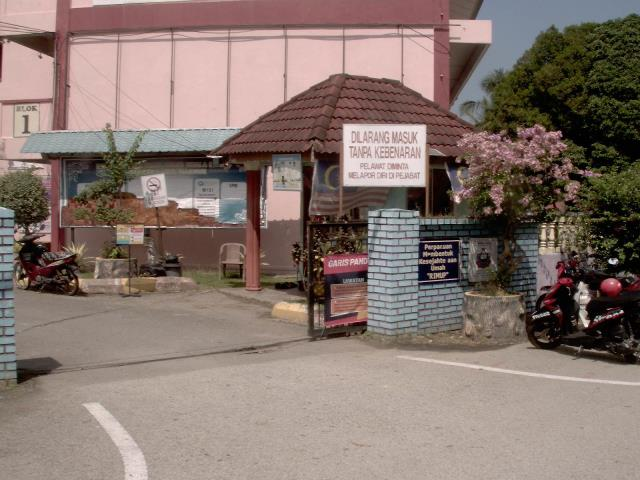ads_sign: (334, 117, 436, 195)
